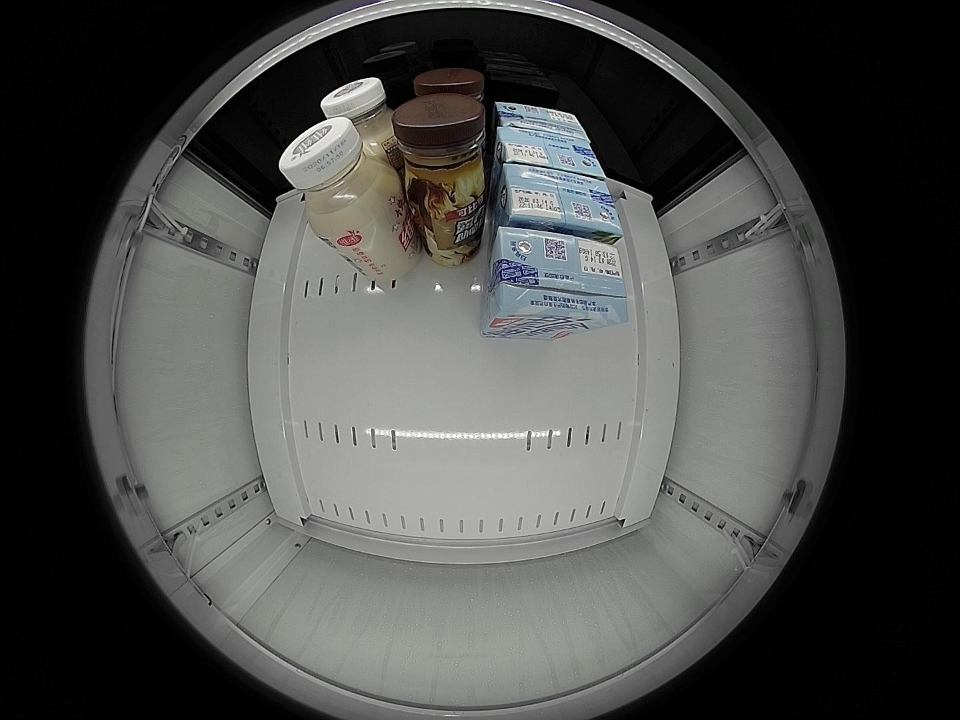lujikafei: (392, 93, 489, 202), (413, 67, 486, 106)
weitanaiditang: (489, 227, 627, 332), (498, 164, 622, 239), (495, 127, 605, 179), (493, 101, 590, 143)
weiweidounai: (279, 118, 399, 239), (320, 77, 400, 154)
